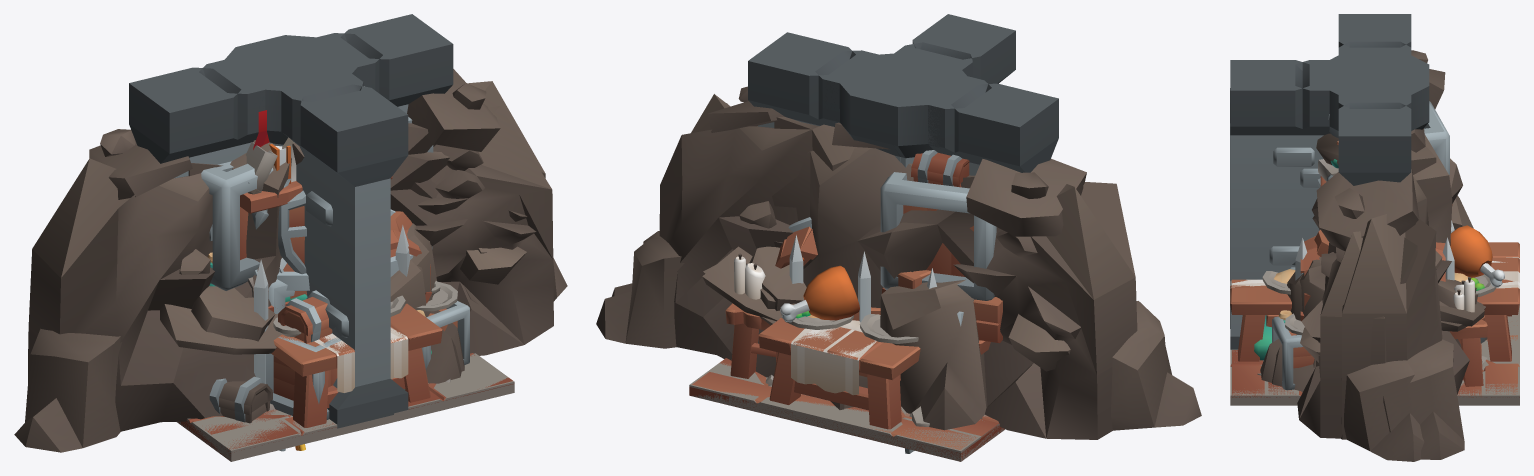
Rendered from dungeon.glb.
The picture shows the model from 3 angles, left to right: view 1: azimuth 30°, elevation 25°; view 2: azimuth 150°, elevation 25°; view 3: azimuth 270°, elevation 25°; orthographic projection. The views are drawn at different scales.
Parts seen in each view (by area): view 1: rubble_large, wall_corner, wall, box_stacked, rubble_half, table_long_decorated_A, wall_cracked, wall_pillar, floor_tile_large, floor_dirt_large, table_long_tablecloth_decorated_A, wall_shelves (+8 smaller); view 2: rubble_large, rubble_half, wall, table_long_decorated_A, box_stacked, wall_corner, wall_pillar, floor_tile_large, floor_wood_large, table_long_tablecloth_decorated_A, bed_decorated, keg_decorated (+3 smaller); view 3: rubble_half, wall_corner, rubble_large, wall, table_long_decorated_A, wall_pillar, bed_decorated, floor_wood_large, floor_tile_large, box_stacked, floor_dirt_large, keg_decorated (+3 smaller).
Boxes of the visible parts, box(x1,y1,x2,y2) form: rubble_large: box(14, 106, 567, 452); wall_corner: box(165, 49, 408, 428); wall: box(129, 14, 453, 177); box_stacked: box(201, 163, 431, 423); rubble_half: box(390, 69, 545, 371); table_long_decorated_A: box(271, 294, 442, 427); wall_cracked: box(129, 14, 452, 173); wall_pillar: box(196, 34, 413, 163); floor_tile_large: box(176, 353, 514, 461); floor_dirt_large: box(231, 379, 514, 461); table_long_tablecloth_decorated_A: box(302, 327, 441, 392); wall_shelves: box(209, 117, 412, 311); rubble_large: box(611, 103, 1201, 439); rubble_half: box(596, 86, 854, 377); wall: box(748, 35, 1058, 175); table_long_decorated_A: box(758, 265, 920, 429); box_stacked: box(830, 150, 996, 409); wall_corner: box(871, 14, 1015, 174); wall_pillar: box(822, 51, 981, 175); floor_tile_large: box(689, 362, 1005, 461); floor_wood_large: box(689, 358, 1004, 461); table_long_tablecloth_decorated_A: box(759, 327, 892, 395); bed_decorated: box(725, 253, 901, 406); keg_decorated: box(775, 217, 1002, 354); rubble_half: box(1272, 147, 1484, 459); wall_corner: box(1230, 45, 1410, 349); rubble_large: box(1260, 50, 1485, 461); wall: box(1338, 14, 1411, 185); table_long_decorated_A: box(1230, 225, 1519, 361); wall_pillar: box(1320, 47, 1429, 137); bed_decorated: box(1266, 277, 1487, 390); floor_wood_large: box(1230, 316, 1519, 397); floor_tile_large: box(1230, 289, 1519, 401); box_stacked: box(1254, 101, 1487, 360); floor_dirt_large: box(1230, 361, 1519, 405); keg_decorated: box(1300, 236, 1445, 321).
Bounding box in the file's own units: 8.13 × 5.2 × 4.
1 material, 1 textured.
